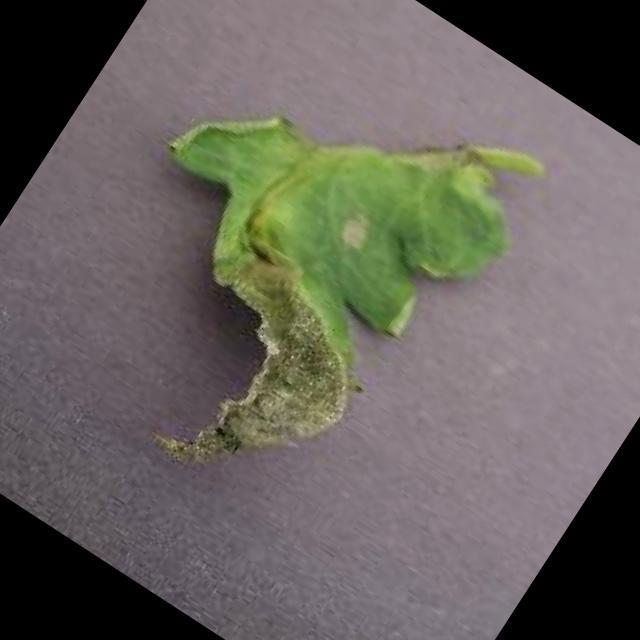Tomato late blight leaf: (21, 0, 557, 549)
